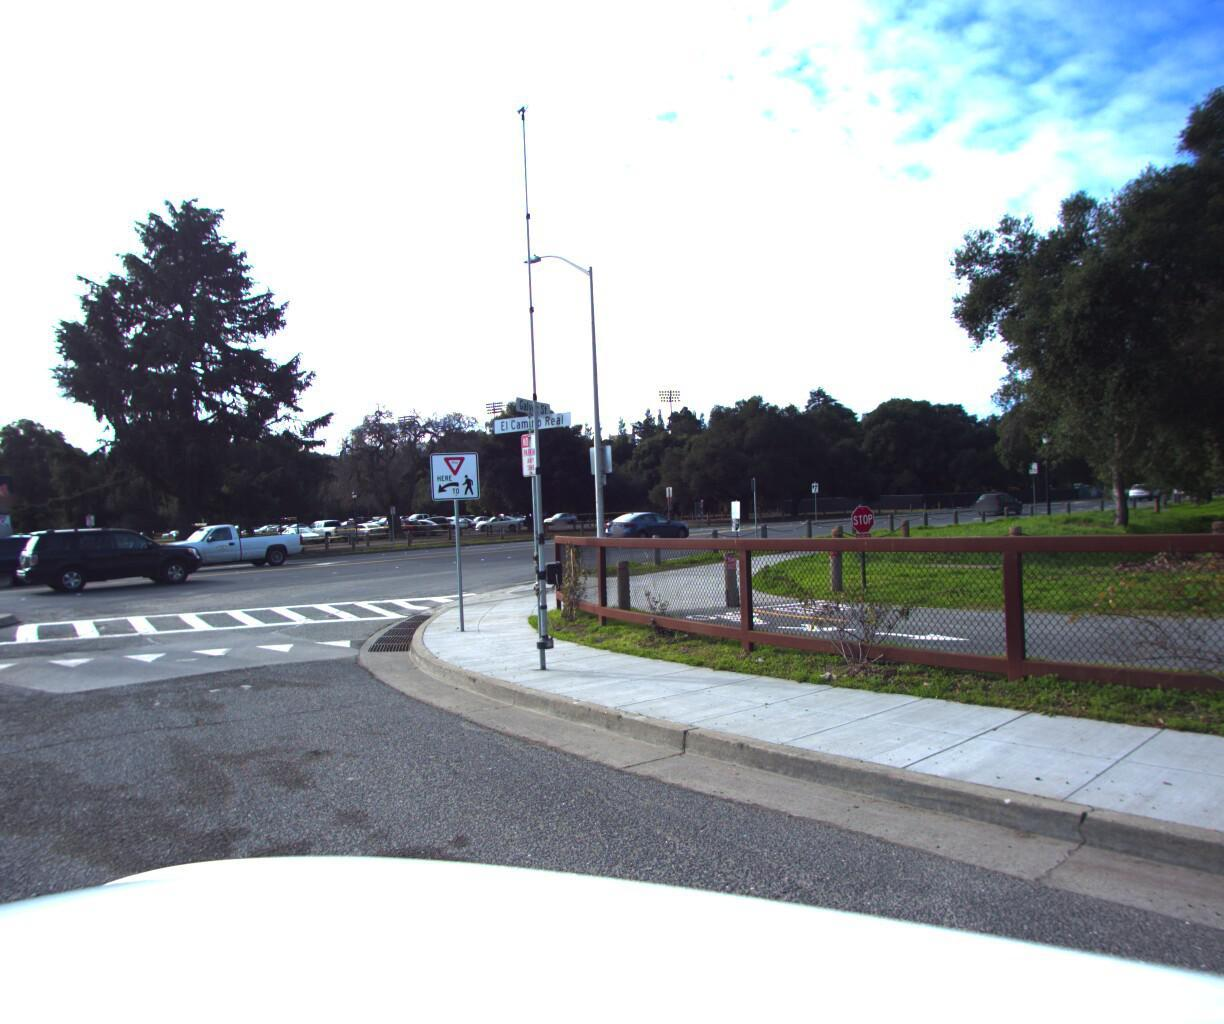car: (14, 517, 207, 589), (136, 508, 308, 573), (0, 526, 65, 595), (597, 502, 695, 542), (967, 488, 1023, 513)
